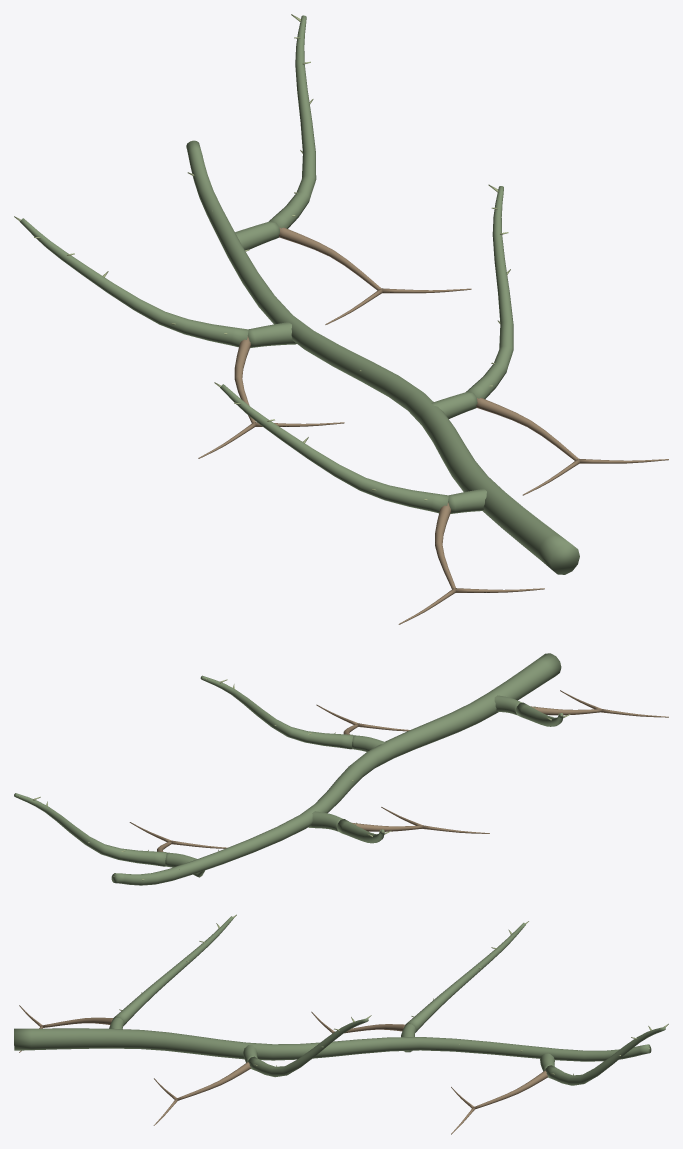
File: sengelia.glb
3 renders of one model, top to bottom at view 1: azimuth 30°, elevation 25°; view 2: azimuth 150°, elevation 25°; view 3: azimuth 270°, elevation 25°, orthographic. The views are drawn at different scales.
Parts seen in each view (by area): view 1: prostrate-leafy-axis-and-directional-K-junctions, unbranched-root-bearing-axes-with-fine-lateral-roots; view 2: prostrate-leafy-axis-and-directional-K-junctions, unbranched-root-bearing-axes-with-fine-lateral-roots; view 3: prostrate-leafy-axis-and-directional-K-junctions, unbranched-root-bearing-axes-with-fine-lateral-roots.
Boxes of the visible parts, x1,y1,x2,y2 form: prostrate-leafy-axis-and-directional-K-junctions: (20, 15, 579, 574); unbranched-root-bearing-axes-with-fine-lateral-roots: (198, 227, 668, 624); prostrate-leafy-axis-and-directional-K-junctions: (14, 653, 563, 885); unbranched-root-bearing-axes-with-fine-lateral-roots: (129, 690, 668, 851); prostrate-leafy-axis-and-directional-K-junctions: (14, 916, 665, 1085); unbranched-root-bearing-axes-with-fine-lateral-roots: (19, 1005, 547, 1134).
Size of the model in its own units: 0.1263 by 0.0462 by 0.2579.
